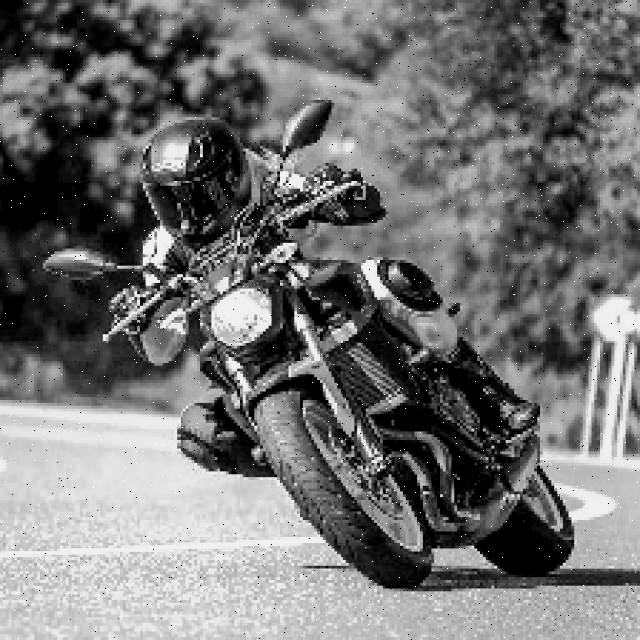Bike: (102, 215, 590, 593)
